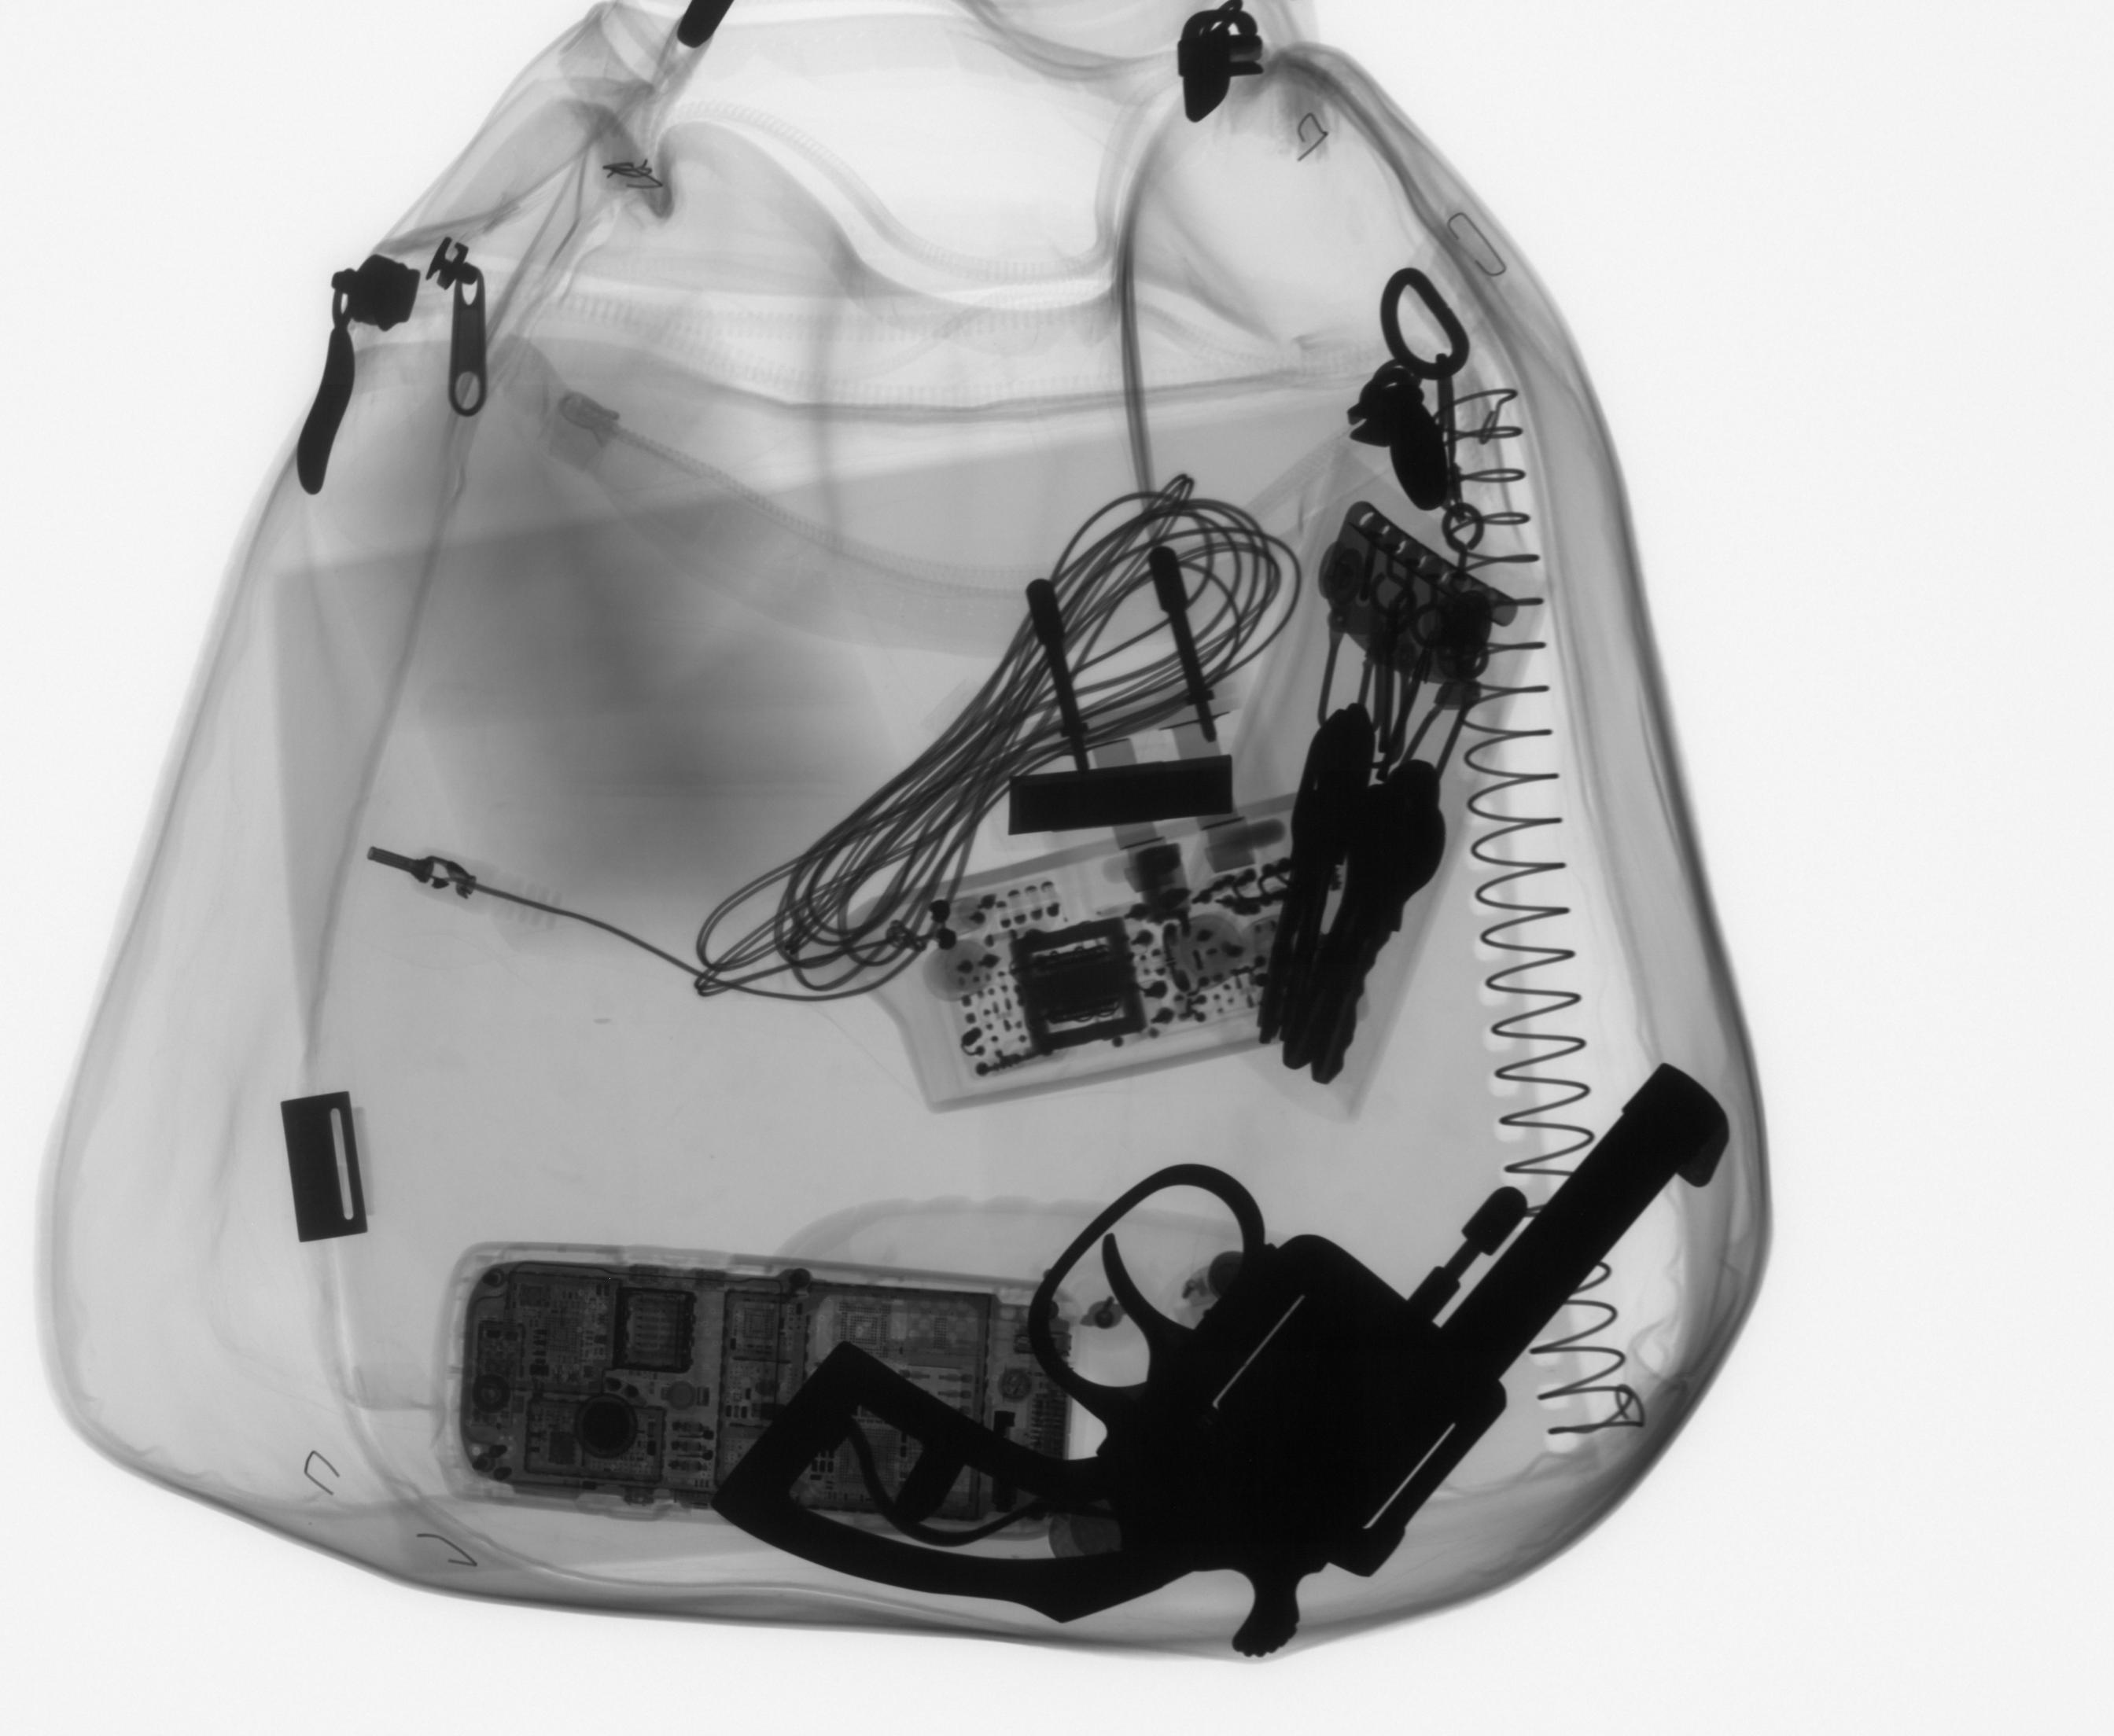Handgun: (702, 1052, 1735, 1668)
